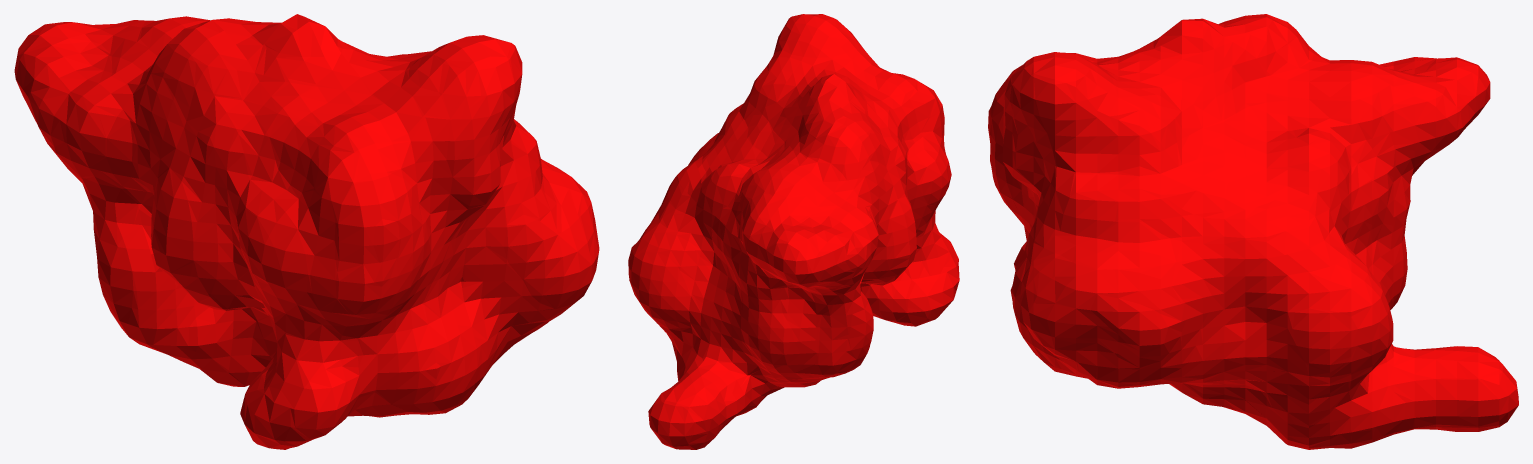
File: yedE_coarse.dae
3 renders of one model, left to right at view 1: azimuth 30°, elevation 25°; view 2: azimuth 150°, elevation 25°; view 3: azimuth 270°, elevation 25°, orthographic. The views are drawn at different scales.
Parts seen in each view (by area): view 1: yedE; view 2: yedE; view 3: yedE.
Part boxes in pixels (x1,y1,x2,y2): yedE: (14,14,599,449); yedE: (628,14,959,449); yedE: (988,14,1518,449).
Size of the model in its own units: 54.19 by 58.24 by 70.83.
